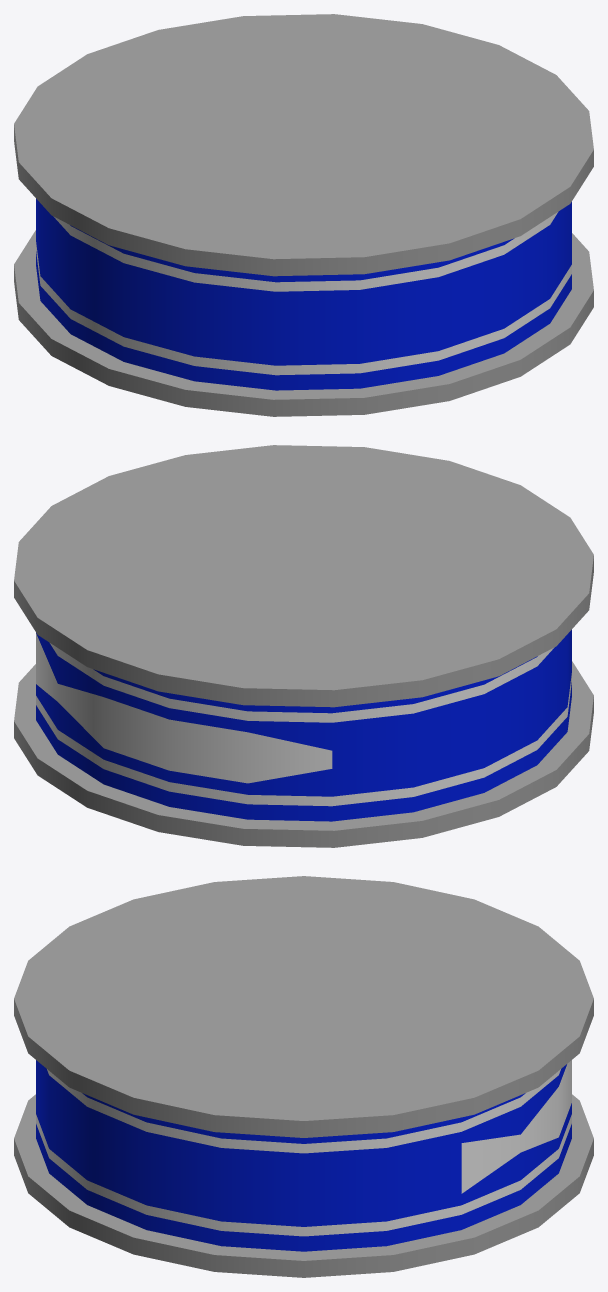
The model's file is FishCan.fbx.
The picture shows the model from 3 angles, top to bottom: view 1: azimuth 30°, elevation 25°; view 2: azimuth 150°, elevation 25°; view 3: azimuth 270°, elevation 25°; orthographic projection.
Visible parts, largest first — view 1: FishCan; view 2: FishCan; view 3: FishCan.
Part boxes in pixels (<box>): FishCan: <box>14,14,593,416</box>; FishCan: <box>14,445,593,847</box>; FishCan: <box>14,876,593,1277</box>.
Bounding box in the file's own units: 89.11 × 26.58 × 89.11.
